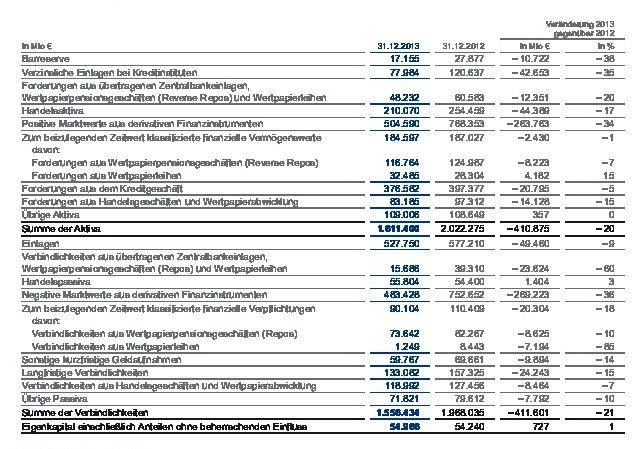table: (0, 0, 642, 449)
